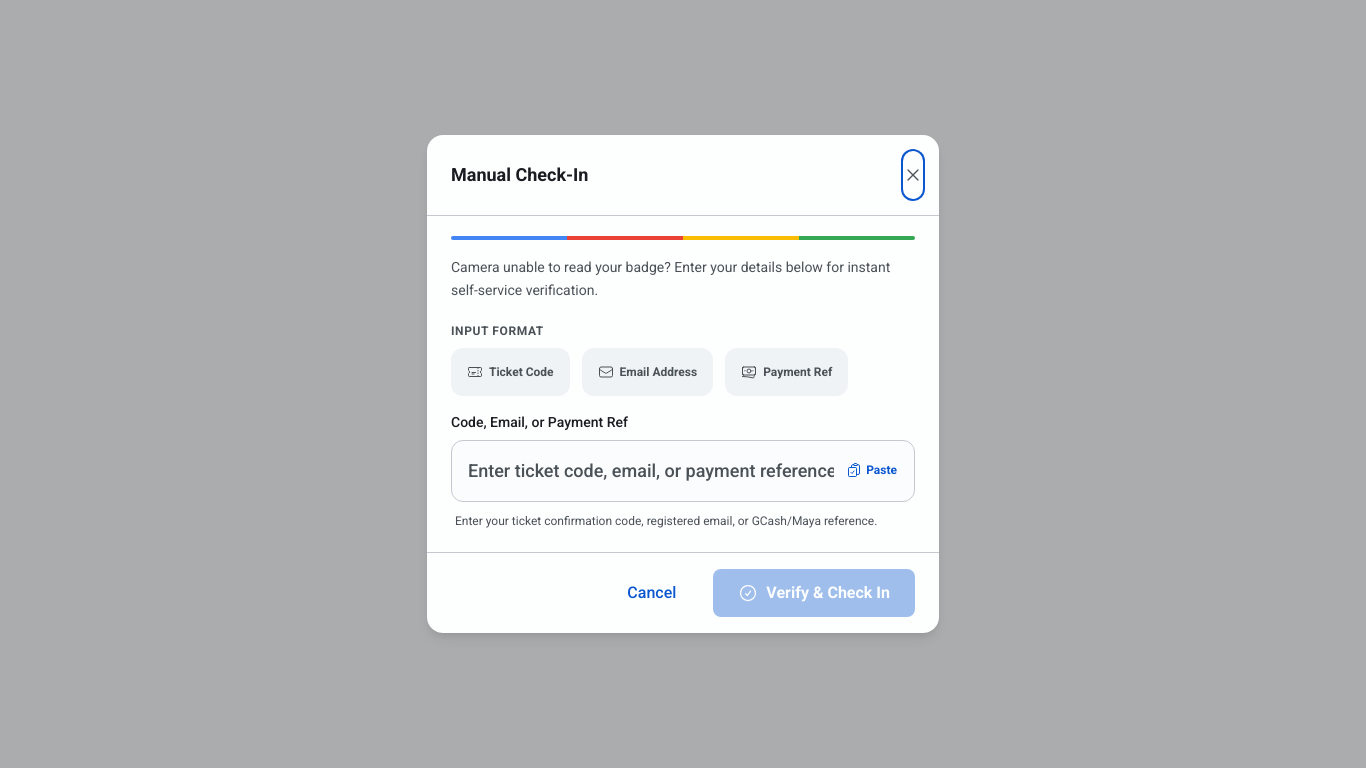
Test: KioskManualCodeModal Component (DOM) › automatically detects ticket code format as user types
Type "REG-98765" into the field.
click(683, 471); type("REG-98765")  # box [451,440,915,502]
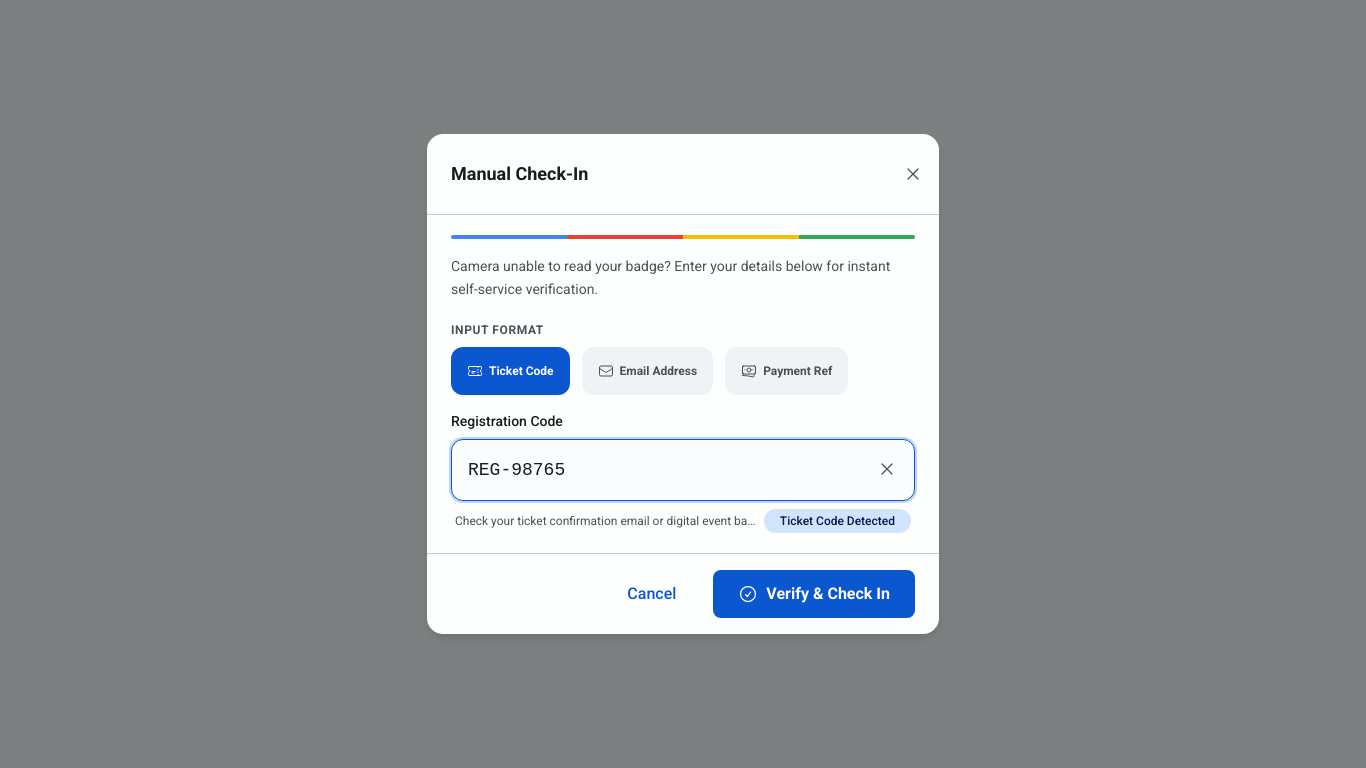
Expected: the text "Ticket Code Detected" is shown, [764,509,911,533]
